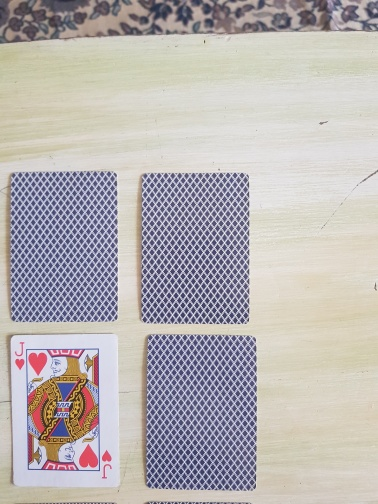jack: (9, 333, 122, 489)
